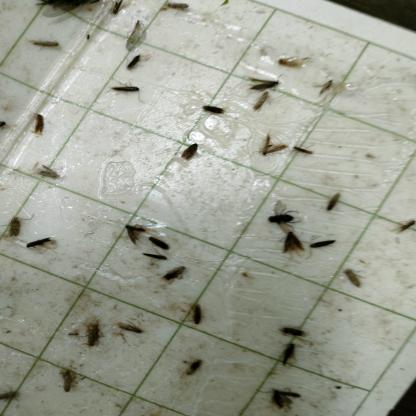prays_oleae: (258, 197, 305, 234), (276, 230, 309, 266), (113, 312, 147, 345), (390, 206, 416, 245), (257, 131, 287, 164), (109, 76, 142, 106), (308, 234, 338, 264), (180, 135, 203, 174), (30, 28, 65, 53), (82, 321, 103, 361), (179, 354, 204, 387), (22, 229, 56, 252), (269, 386, 300, 411), (278, 46, 305, 74), (36, 158, 63, 184), (290, 132, 314, 161), (248, 73, 280, 94), (58, 364, 76, 400), (2, 207, 21, 241), (277, 319, 307, 340), (346, 264, 366, 294), (202, 101, 230, 122), (322, 189, 343, 215), (0, 383, 27, 403), (30, 111, 49, 139), (122, 217, 141, 245), (251, 90, 273, 114), (160, 262, 187, 280), (187, 300, 204, 328), (146, 232, 172, 250), (280, 342, 296, 366), (314, 76, 333, 96), (138, 252, 169, 264), (124, 52, 146, 67)
